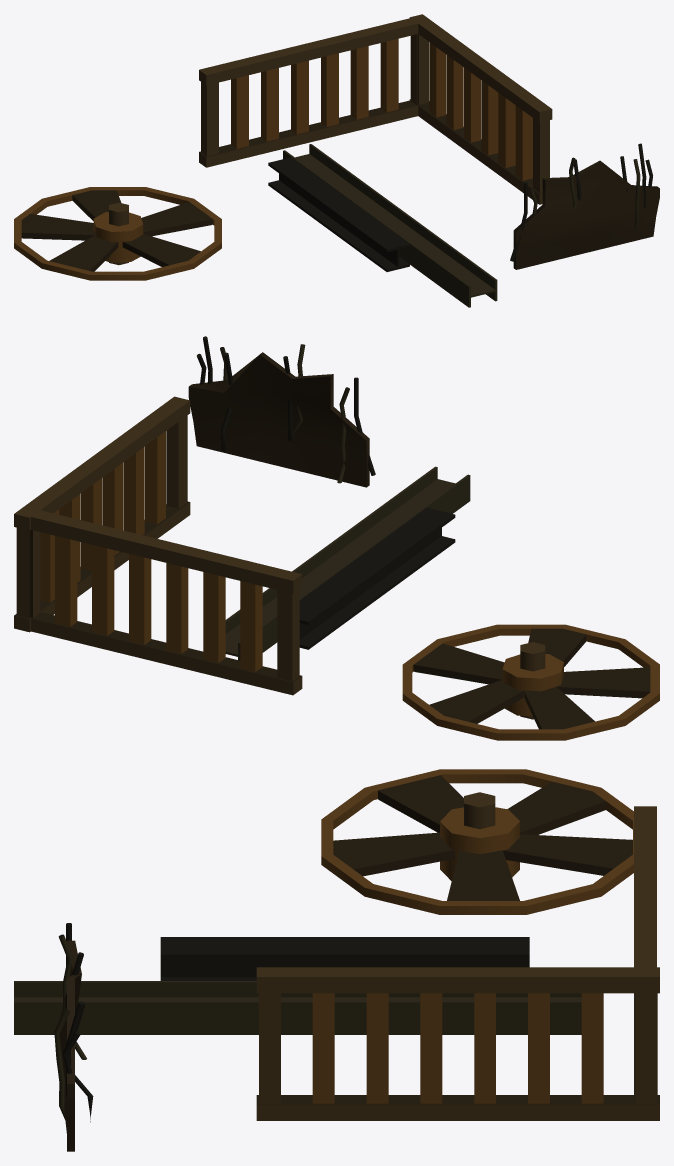
Rendered from SubmarineWreckage.fbx.
3 renders of one model, top to bottom at view 1: azimuth 30°, elevation 25°; view 2: azimuth 150°, elevation 25°; view 3: azimuth 270°, elevation 25°, orthographic. The views are drawn at different scales.
Visible parts, largest first — view 1: Wreckage_StairBarrier, Sub_WreckPiece, SteelBeam_Big, SteelBeam_Small, OutterRingofWheel_wreckage, Spoke_4, Spoke_5, BigBolt_Wreckage, Spoke_3, Spoke_1, Spoke_2, Pipe_Wreckage9; view 2: Wreckage_StairBarrier, Sub_WreckPiece, SteelBeam_Small, SteelBeam_Big, OutterRingofWheel_wreckage, Spoke_1, Spoke_5, Spoke_2, BigBolt_Wreckage, Spoke_4, Spoke_3, Pipe_Wreckage9; view 3: Wreckage_StairBarrier, SteelBeam_Big, SteelBeam_Small, OutterRingofWheel_wreckage, Spoke_2, Spoke_3, Spoke_4, BigBolt_Wreckage, Spoke_5, Spoke_1, Sub_WreckPiece, Pipe_Wreckage9 (+1 smaller).
Part boxes in pixels (left/top/right/bottom): Wreckage_StairBarrier: left=199, top=14, right=552, bottom=204; Sub_WreckPiece: left=513, top=160, right=659, bottom=269; SteelBeam_Big: left=283, top=144, right=497, bottom=307; SteelBeam_Small: left=268, top=157, right=409, bottom=271; OutterRingofWheel_wreckage: left=14, top=187, right=221, bottom=280; Spoke_4: left=21, top=214, right=95, bottom=240; Spoke_5: left=141, top=202, right=212, bottom=236; BigBolt_Wreckage: left=93, top=212, right=143, bottom=262; Spoke_3: left=122, top=234, right=200, bottom=266; Spoke_1: left=49, top=235, right=118, bottom=271; Spoke_2: left=72, top=190, right=121, bottom=220; Pipe_Wreckage9: left=109, top=202, right=128, bottom=265; Wreckage_StairBarrier: left=14, top=396, right=302, bottom=695; Sub_WreckPiece: left=188, top=352, right=369, bottom=487; SteelBeam_Small: left=299, top=507, right=455, bottom=649; SteelBeam_Big: left=225, top=466, right=470, bottom=660; OutterRingofWheel_wreckage: left=402, top=624, right=659, bottom=740; Spoke_1: left=556, top=667, right=650, bottom=698; Spoke_5: left=413, top=643, right=504, bottom=684; Spoke_2: left=429, top=680, right=523, bottom=723; BigBolt_Wreckage: left=502, top=654, right=563, bottom=716; Spoke_4: left=524, top=687, right=594, bottom=729; Spoke_3: left=528, top=628, right=586, bottom=666; Pipe_Wreckage9: left=520, top=642, right=545, bottom=719; Wreckage_StairBarrier: left=256, top=806, right=659, bottom=1120; SteelBeam_Big: left=14, top=981, right=581, bottom=1034; SteelBeam_Small: left=160, top=937, right=529, bottom=980; OutterRingofWheel_wreckage: left=321, top=769, right=633, bottom=914; Spoke_2: left=503, top=834, right=632, bottom=875; Spoke_3: left=333, top=832, right=454, bottom=876; Spoke_4: left=507, top=781, right=605, bottom=834; BigBolt_Wreckage: left=440, top=807, right=519, bottom=880; Spoke_5: left=447, top=850, right=519, bottom=900; Spoke_1: left=378, top=775, right=463, bottom=832; Sub_WreckPiece: left=59, top=940, right=81, bottom=1151; Pipe_Wreckage9: left=464, top=792, right=495, bottom=829.
Bounding box in the file's own units: 2.17 × 0.5091 × 1.57.
